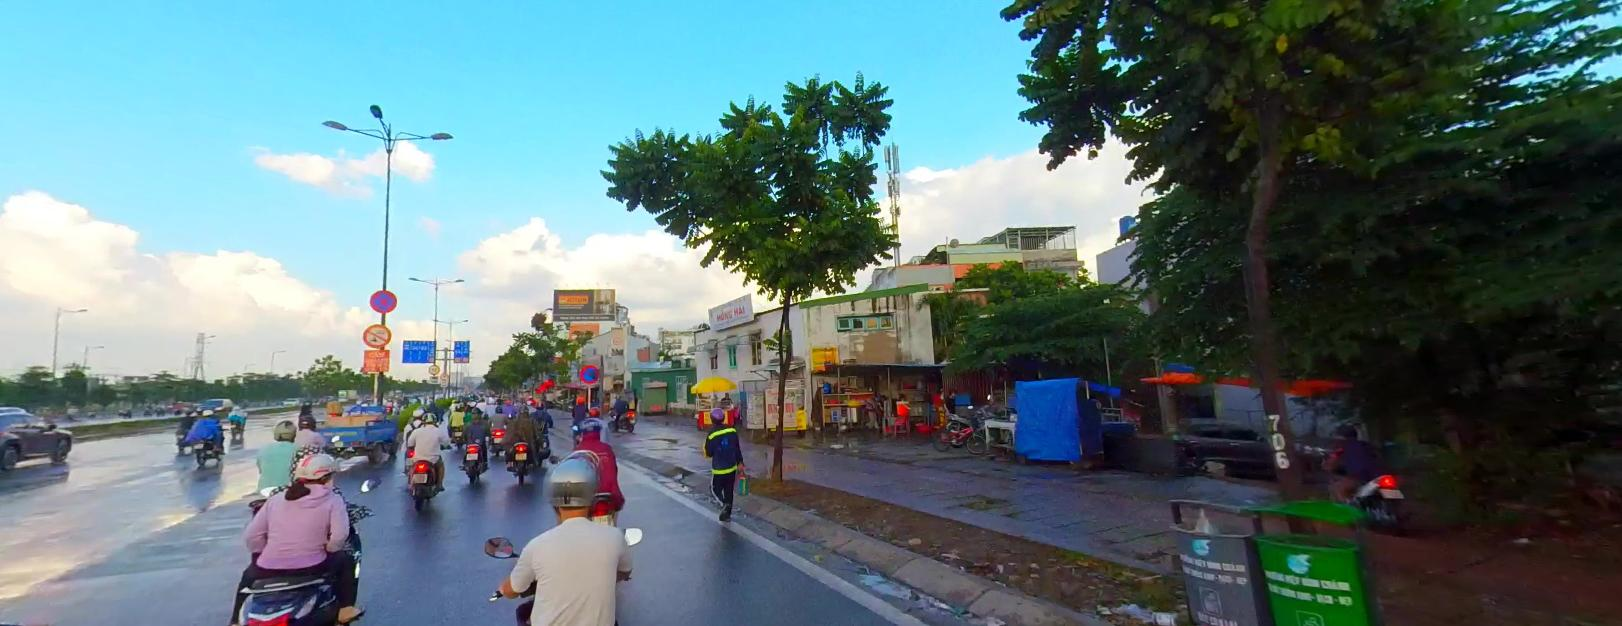Cam con lai: (363, 321, 391, 344)
Cam dung va do: (368, 287, 398, 314), (578, 363, 601, 383)
Gioi han toc do: (428, 362, 439, 372), (439, 371, 447, 377), (454, 356, 459, 361), (462, 355, 468, 360), (429, 356, 433, 360)
